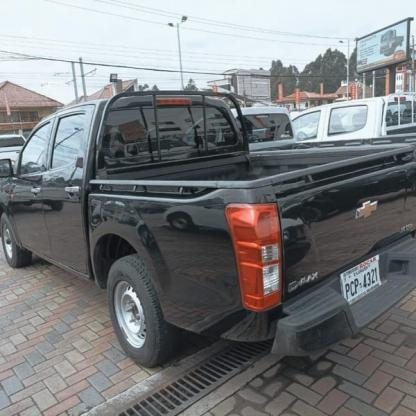Placa: (343, 252, 389, 314)
